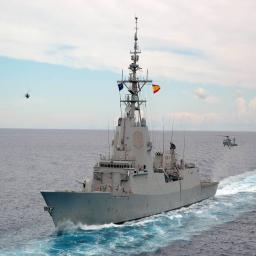Fragata: (1, 13, 145, 240)
